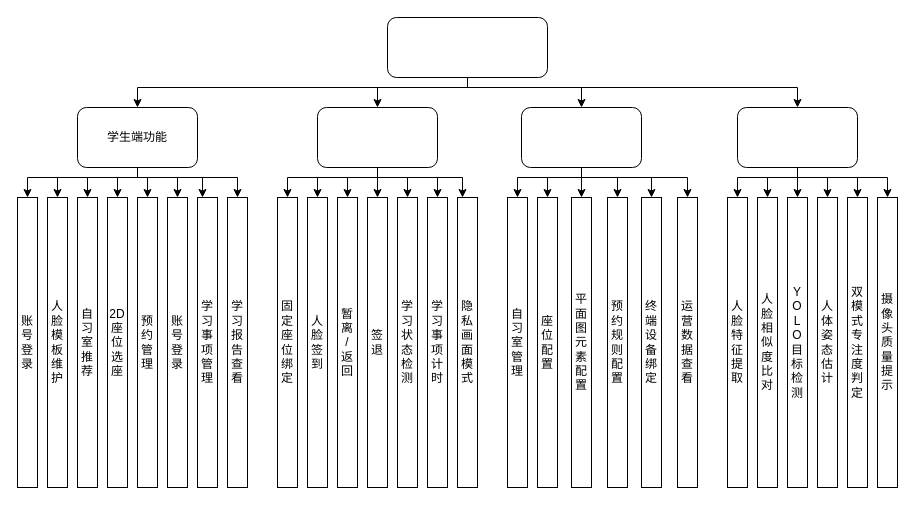
The diagram is 915 pixels wide and 505 high, and some of its shapes have lost their labels. Here are the shapes that lost their labels. From the top down, the centre of each, then its label:
(x=467, y=47): 智能自习室预约管理系统
(x=377, y=137): 座位终端功能
(x=581, y=137): 管理员端功能
(x=797, y=137): AI算法功能
